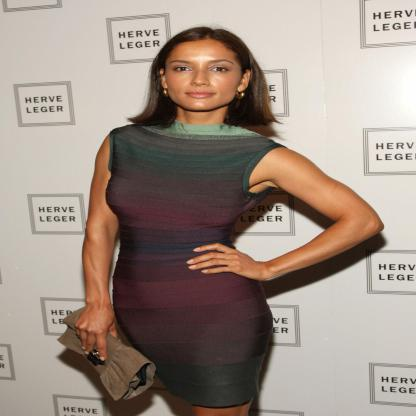long-hair: (119, 109, 282, 130)
